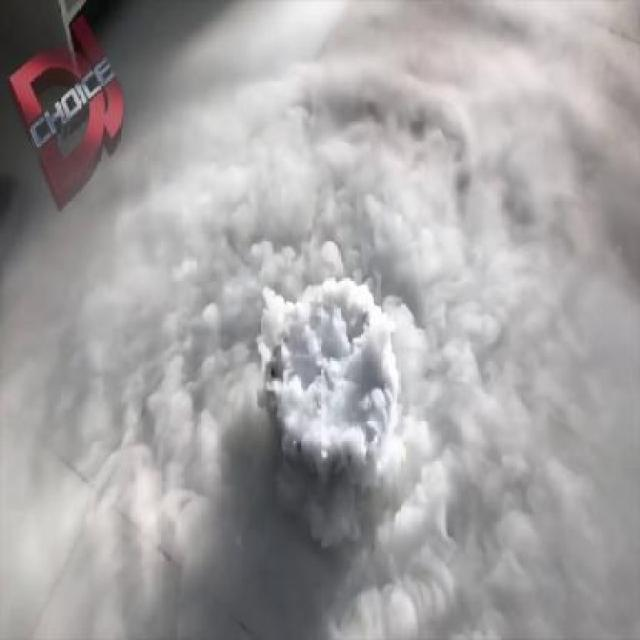smoke: (169, 126, 591, 552)
